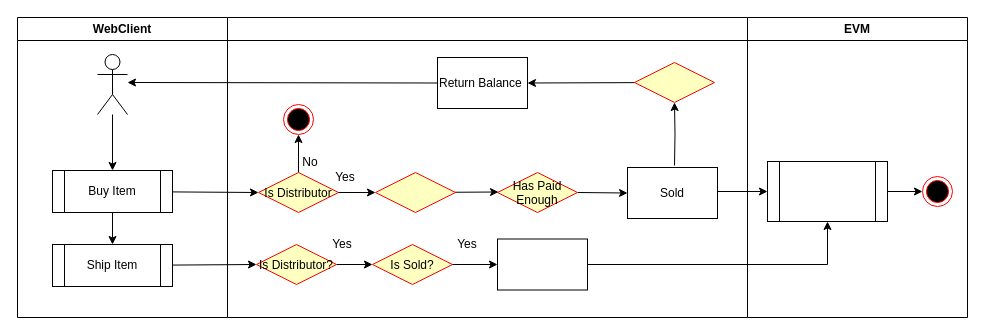
Some shapes in this 985 by 335 pixel diagram are drawn without their labels. The shapes that lost their labels are listed below. From the top down, each one's box as (x1, y1, x2, y2) in pixels, then its label:
(96, 54, 128, 114): Distributor
(634, 62, 714, 102): Has paid Excess?
(374, 172, 456, 212): Is ForSale?
(766, 160, 888, 222): Deployed SupplyChain Contract
(496, 238, 588, 290): Shipped
